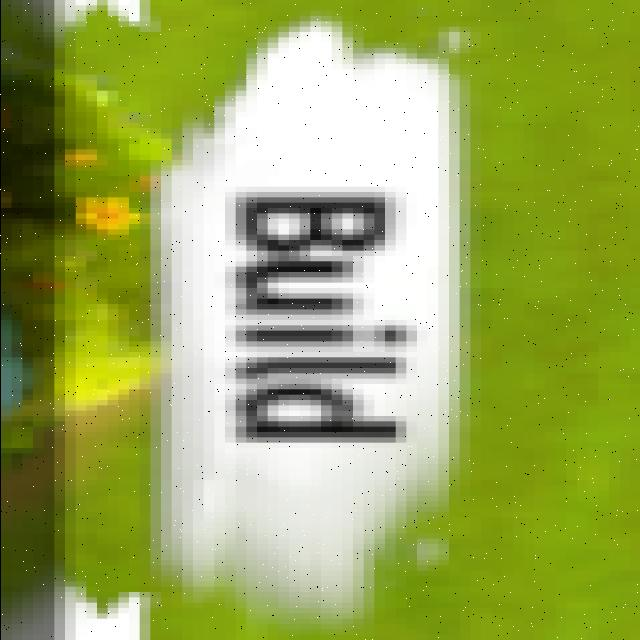build: (210, 172, 433, 456)
